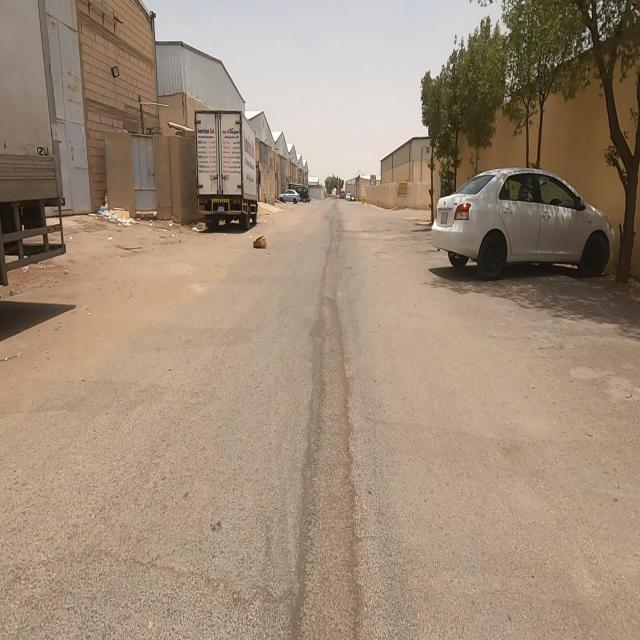debris: (70, 162, 154, 270), (157, 193, 224, 260), (230, 199, 284, 276)
